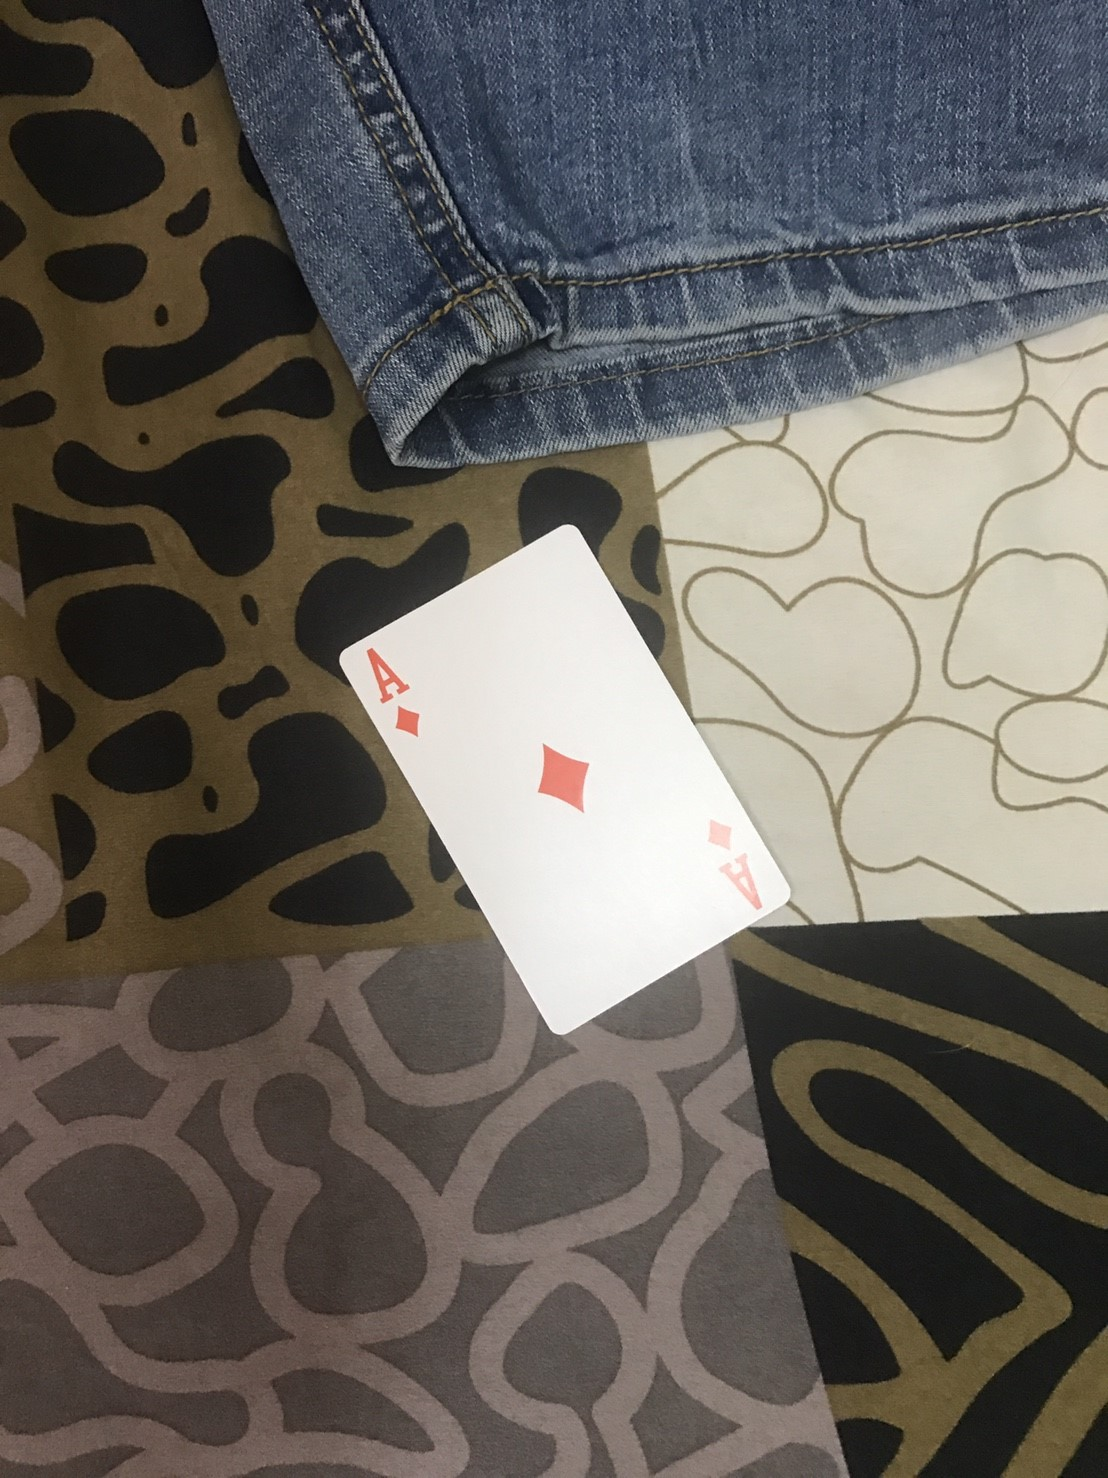diamonds: (520, 733, 601, 823), (393, 706, 429, 749), (705, 816, 744, 854)
